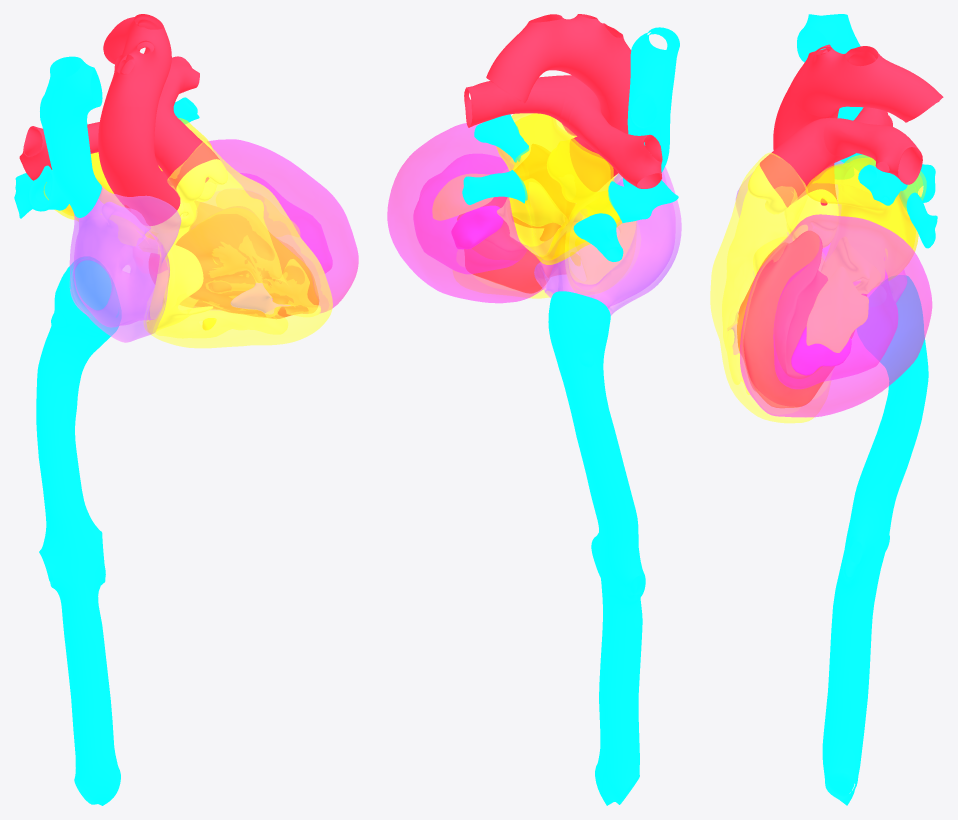
The model's file is herz-female-mobil.glb.
The picture shows the model from 3 angles, left to right: view 1: azimuth 30°, elevation 25°; view 2: azimuth 150°, elevation 25°; view 3: azimuth 270°, elevation 25°; orthographic projection.
Parts seen in each view (by area): view 1: 0:4:VH_F_right_ventricle, 1:6:VH_F_inferior_vena_cava_b, 0:3:VH_F_right_cardiac_atrium, 0:2:VH_F_left_ventricle, 0:0:VH_F_interventricular_septum, 1:4:VH_F_superior_vena_cava, 1:11:VH_F_ascending_aorta, 1:5:VH_F_inferior_vena_cava_a, 1:10:VH_F_aortic_arch, 0:15:VH_F_tricuspid_valve, 1:8:VH_F_pulmonary_trunk, 0:7:VH_F_papillary_muscle_of_heart_antlat (+8 smaller); view 2: 0:2:VH_F_left_ventricle, 1:6:VH_F_inferior_vena_cava_b, 0:1:VH_F_left_cardiac_atrium, 0:3:VH_F_right_cardiac_atrium, 1:10:VH_F_aortic_arch, 0:0:VH_F_interventricular_septum, 1:5:VH_F_inferior_vena_cava_a, 1:4:VH_F_superior_vena_cava, 1:9:VH_F_pulmonary_artery_R, 0:15:VH_F_tricuspid_valve, 1:7:VH_F_pulmonary_artery_L, 0:13:VH_F_mitral_valve (+10 smaller); view 3: 0:2:VH_F_left_ventricle, 1:6:VH_F_inferior_vena_cava_b, 0:4:VH_F_right_ventricle, 0:0:VH_F_interventricular_septum, 1:10:VH_F_aortic_arch, 0:1:VH_F_left_cardiac_atrium, 1:5:VH_F_inferior_vena_cava_a, 1:7:VH_F_pulmonary_artery_L, 1:8:VH_F_pulmonary_trunk, 0:7:VH_F_papillary_muscle_of_heart_antlat, 1:4:VH_F_superior_vena_cava, 0:12:VH_F_aortic_valve (+10 smaller).
Part boxes in pixels (x1,y1,x2,y2): 0:4:VH_F_right_ventricle: (144,141,332,348); 1:6:VH_F_inferior_vena_cava_b: (36,345,120,805); 0:3:VH_F_right_cardiac_atrium: (69,186,181,342); 0:2:VH_F_left_ventricle: (207,139,358,312); 0:0:VH_F_interventricular_septum: (149,201,318,318); 1:4:VH_F_superior_vena_cava: (40,56,102,217); 1:11:VH_F_ascending_aorta: (98,106,180,225); 1:5:VH_F_inferior_vena_cava_a: (44,257,120,366); 1:10:VH_F_aortic_arch: (102,14,171,111); 0:15:VH_F_tricuspid_valve: (146,238,212,333); 1:8:VH_F_pulmonary_trunk: (154,101,219,189); 0:7:VH_F_papillary_muscle_of_heart_antlat: (216,190,299,236); 0:2:VH_F_left_ventricle: (387,123,553,303); 1:6:VH_F_inferior_vena_cava_b: (565,387,645,805); 0:1:VH_F_left_cardiac_atrium: (496,113,622,264); 0:3:VH_F_right_cardiac_atrium: (534,166,681,315); 1:10:VH_F_aortic_arch: (486,14,631,103); 0:0:VH_F_interventricular_septum: (457,144,574,293); 1:5:VH_F_inferior_vena_cava_a: (548,291,610,390); 1:4:VH_F_superior_vena_cava: (623,27,679,186); 1:9:VH_F_pulmonary_artery_R: (569,96,662,188); 0:15:VH_F_tricuspid_valve: (565,190,636,294); 1:7:VH_F_pulmonary_artery_L: (464,75,568,127); 0:13:VH_F_mitral_valve: (497,178,567,256); 0:2:VH_F_left_ventricle: (739,214,932,417); 1:6:VH_F_inferior_vena_cava_b: (822,356,928,805); 0:4:VH_F_right_ventricle: (710,152,830,423); 0:0:VH_F_interventricular_septum: (737,230,866,407); 1:10:VH_F_aortic_arch: (791,44,943,122); 0:1:VH_F_left_cardiac_atrium: (805,154,926,281); 1:5:VH_F_inferior_vena_cava_a: (857,275,926,379); 1:7:VH_F_pulmonary_artery_L: (823,118,922,184); 1:8:VH_F_pulmonary_trunk: (759,117,855,207); 0:7:VH_F_papillary_muscle_of_heart_antlat: (806,267,868,352); 1:4:VH_F_superior_vena_cava: (797,14,863,178); 0:12:VH_F_aortic_valve: (785,189,838,247).
Size of the model in its own units: 0.1576 by 0.3933 by 0.1067.
